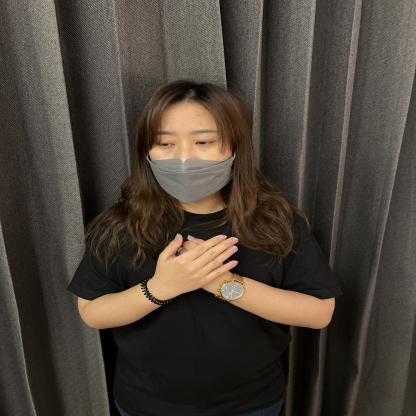Grieve: (113, 218, 316, 340)
